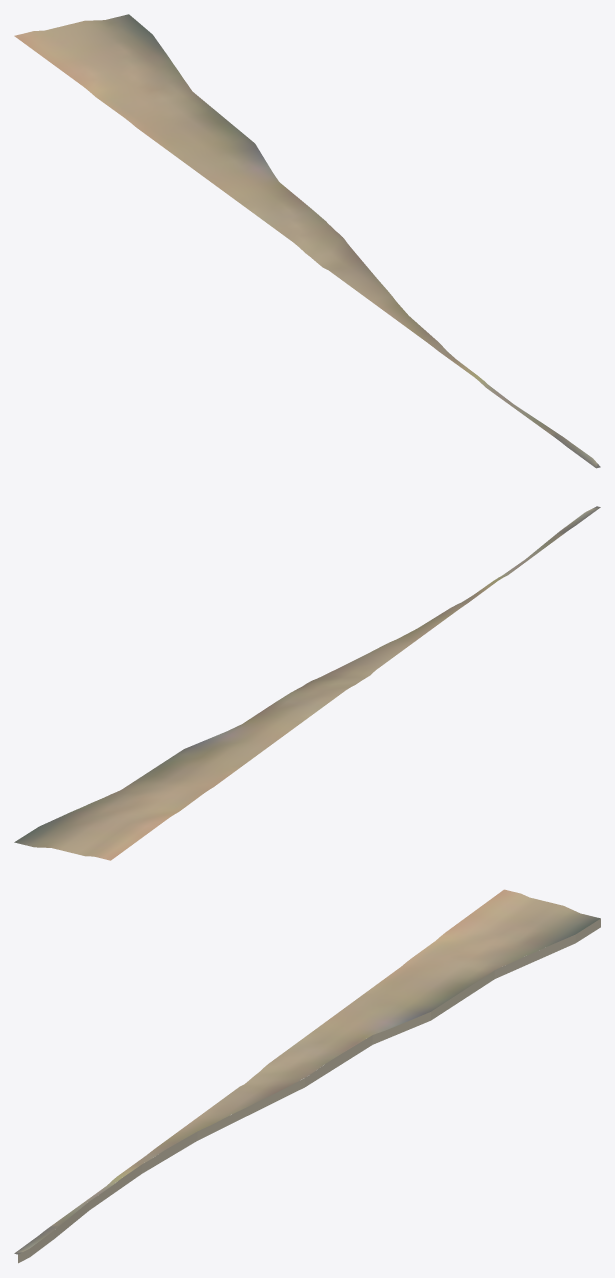
File: terrain.glb
3 renders of one model, top to bottom at view 1: azimuth 30°, elevation 25°; view 2: azimuth 150°, elevation 25°; view 3: azimuth 330°, elevation 25°, orthographic. The views are drawn at different scales.
Parts seen in each view (by area): view 1: T_E2_N5_terrain; view 2: T_E2_N5_terrain; view 3: T_E2_N5_terrain.
Part boxes in pixels (<box>): T_E2_N5_terrain: <box>14,14,600,468</box>; T_E2_N5_terrain: <box>14,506,600,860</box>; T_E2_N5_terrain: <box>14,889,600,1263</box>.
Size of the model in its own units: 57.01 by 8 by 500.
